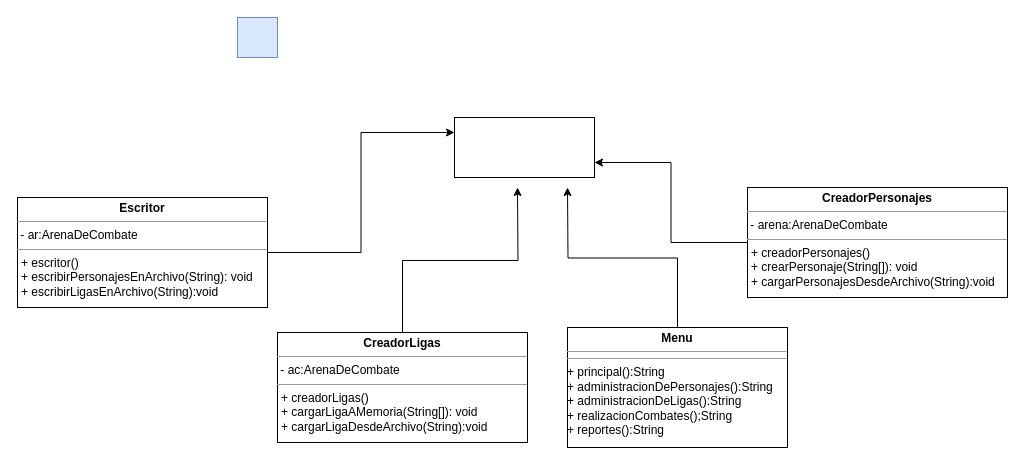
Some shapes in this 1025 by 465 pixel diagram are drawn without their labels. The centre of each missing label's shape, as x and y in pixels:
"Demo + main():void" goes at point 524,147.
"IO" goes at point 257,37.
